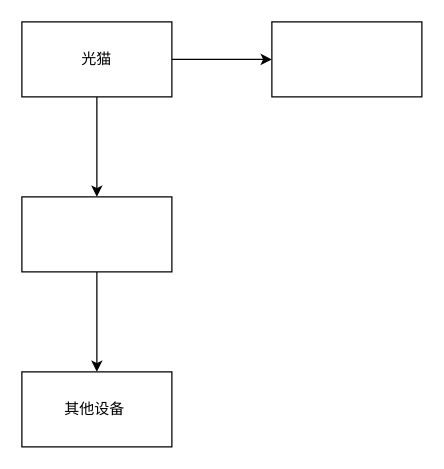
The diagram is 444 pixels wide and 469 high, and some of its shapes have lost their labels. Here are the shapes that lost their labels. From the top down, the box of each, then its label:
(271, 21, 422, 97): 旁路由
(21, 196, 172, 272): 路由（wifi） 网关设定为旁路由
